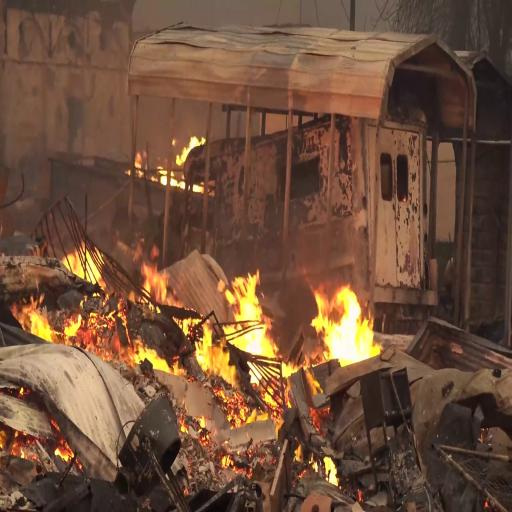fire: (312, 288, 374, 366)
